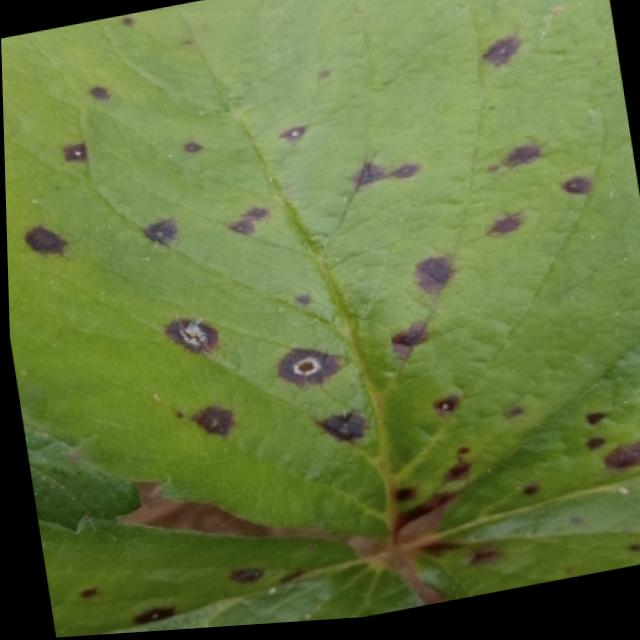Leaf Spot: (1, 0, 640, 555), (405, 343, 640, 607), (34, 514, 422, 638), (20, 419, 138, 527)
